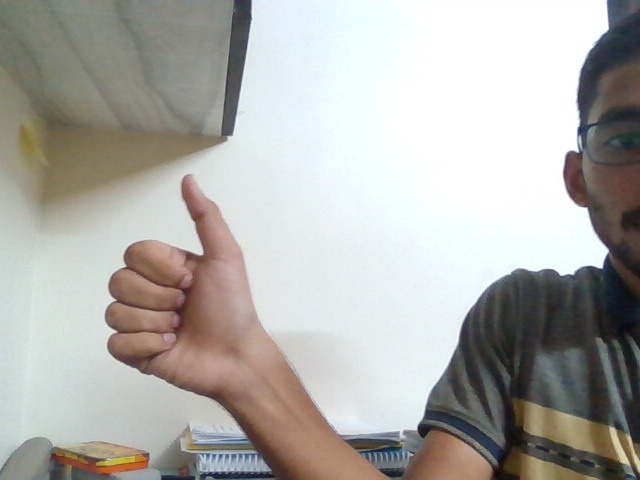Yes: (90, 160, 273, 423)
